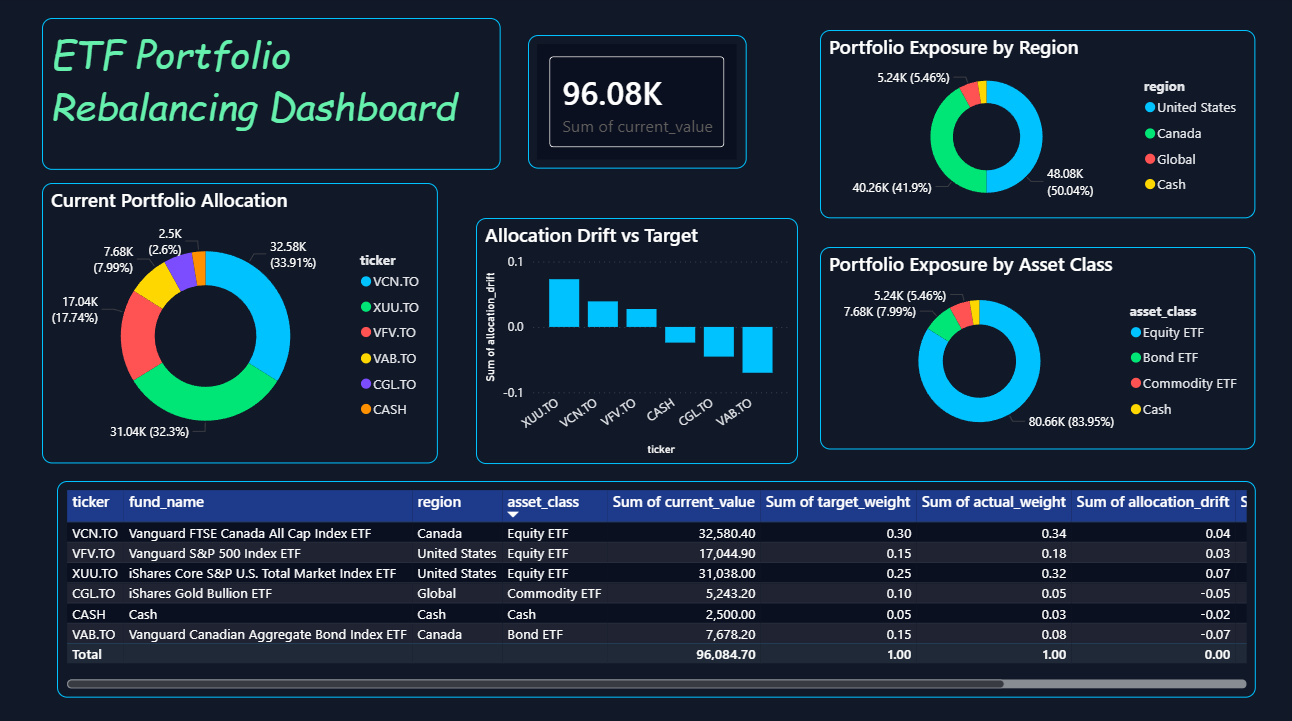

This screenshot's page, from the dashboard's own definition file:
{"tool":"powerbi","page":{"name":"Page 1","canvas":[1280,720],"ordinal":0},"visuals":[{"type":"cardVisual","fields":{"Data":["Sum(portfolio_summary.current_value)"]},"box":[524.3,37.9,215.9,132.3],"z":0},{"type":"donutChart","title":"Current Portfolio Allocation","fields":{"Category":["portfolio_summary.ticker"],"Y":["Sum(portfolio_summary.current_value)"]},"box":[44.7,183.8,391,277.2],"z":1000},{"type":"clusteredColumnChart","title":"Allocation Drift vs Target","fields":{"Category":["portfolio_summary.ticker"],"Y":["Sum(portfolio_summary.allocation_drift)"]},"box":[472.7,217.9,318.1,243.2],"z":2000},{"type":"tableEx","fields":{"Values":["portfolio_summary.ticker","portfolio_summary.fund_name","portfolio_summary.region","portfolio_summary.asset_class","Sum(portfolio_summary.current_value)","Sum(portfolio_summary.target_weight)","Sum(portfolio_summary.actual_weight)","Sum(portfolio_summary.allocation_drift)","Sum(portfolio_summary.rebalance_amount)","portfolio_summary.suggested_action"]},"box":[59.3,477.6,1183.7,214],"z":3000},{"type":"donutChart","title":"Portfolio Exposure by Region","fields":{"Category":["portfolio_summary.region"],"Y":["Sum(portfolio_summary.current_value)"]},"box":[813.1,33.1,429.9,185.8],"z":4000},{"type":"donutChart","title":"Portfolio Exposure by Asset Class","fields":{"Category":["portfolio_summary.asset_class"],"Y":["Sum(portfolio_summary.current_value)"]},"box":[813.1,247.1,429.9,200.4],"z":5000},{"type":"textbox","box":[44.7,20.4,453.3,149.8],"z":6000}]}

Visuals, with their boxes in screenshot pixels (x1, y1, x2, y2), scaled from the page's 1280x720 canvas onto the 1292x721 screenshot:
cardVisual - Sum(portfolio_summary.current_value): left=529, top=38, right=747, bottom=170
"Current Portfolio Allocation" donutChart: left=45, top=184, right=440, bottom=462
"Allocation Drift vs Target" clusteredColumnChart: left=477, top=218, right=798, bottom=462
tableEx - portfolio_summary.ticker x portfolio_summary.fund_name: left=60, top=478, right=1255, bottom=693
"Portfolio Exposure by Region" donutChart: left=821, top=33, right=1255, bottom=219
"Portfolio Exposure by Asset Class" donutChart: left=821, top=247, right=1255, bottom=448
textbox: left=45, top=20, right=503, bottom=170
